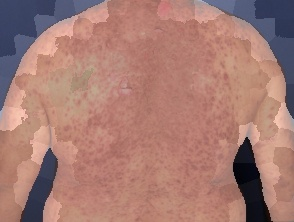SJS-TEN: (0, 0, 270, 222)
